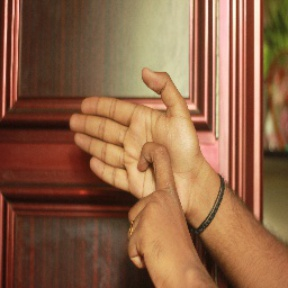R: (67, 62, 208, 262)
